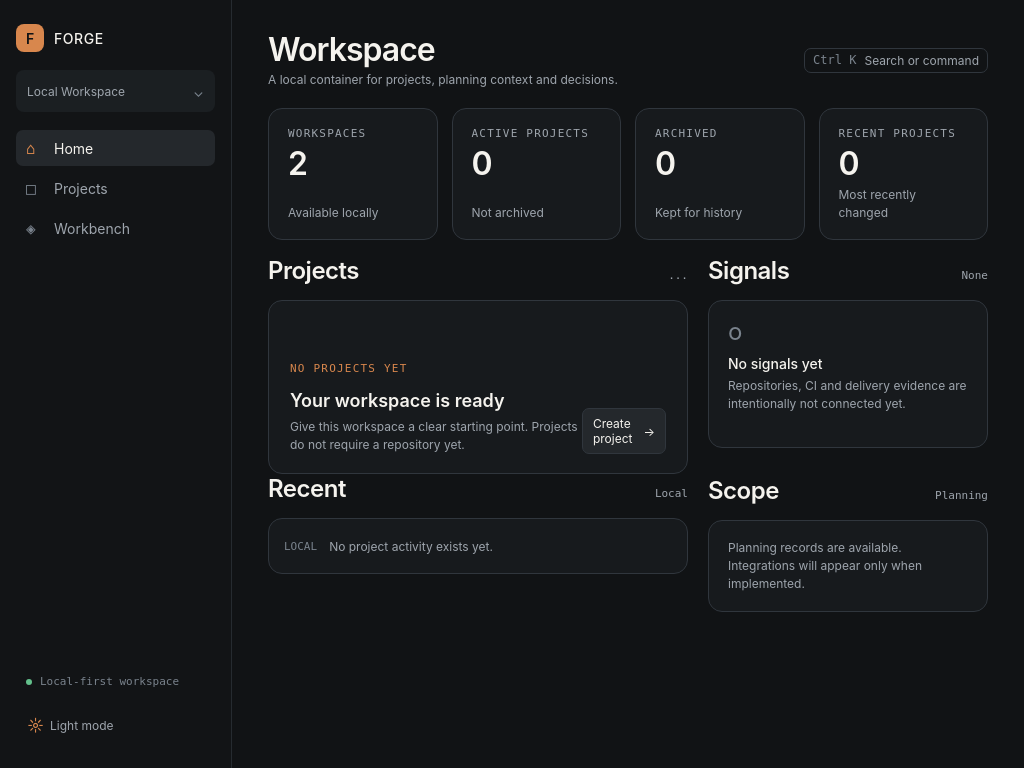
it: Forge workspace and project shell › switches workspace and persists the active selection
expect the heading "Workspace" is shown: met, box [268,30,435,69]
What coordinates should you click on to do the following:
click the button "Local Workspace ⌄"
I would click on:
 (116, 91)
Its box is [16,70,215,112].
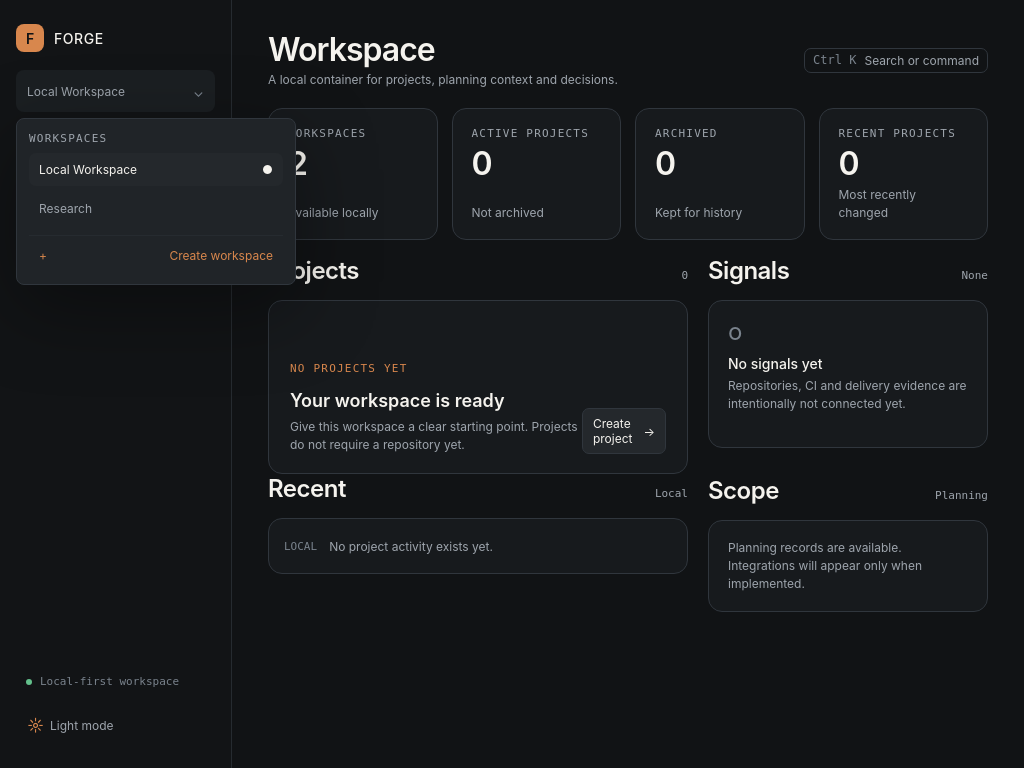
What coordinates should you click on to do the following:
click the menu item "Research"
I would click on:
 (156, 208)
Its box is [29,192,283,225].
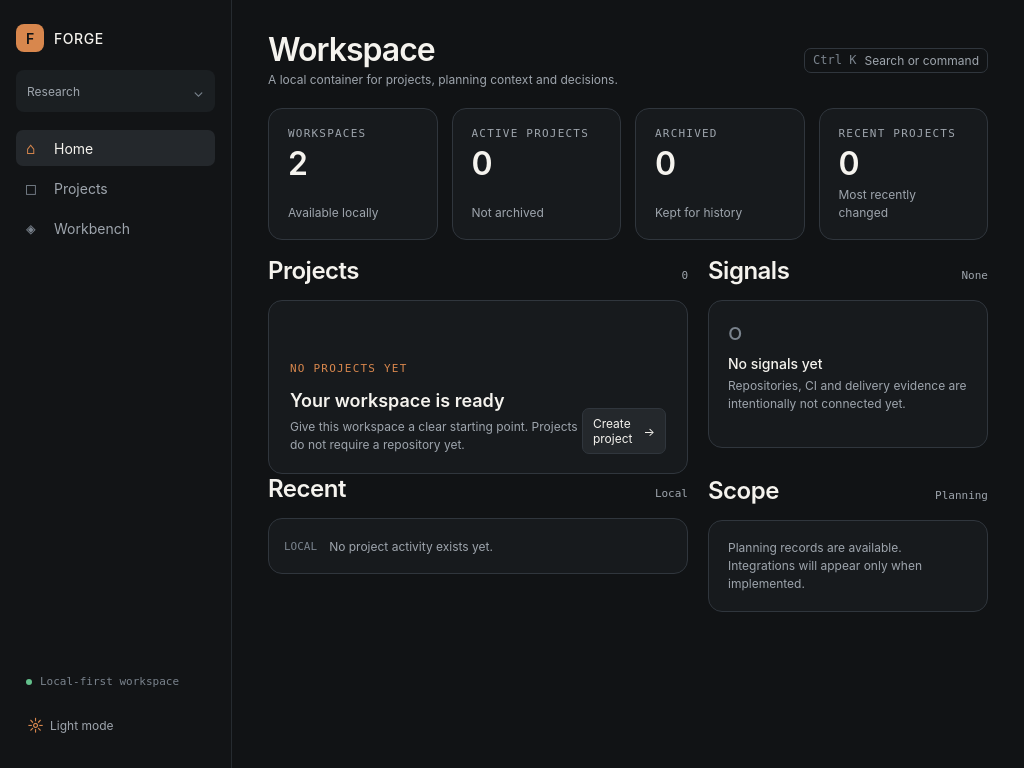
expect the button "Research ⌄" is shown: met, box [16,70,215,112]
